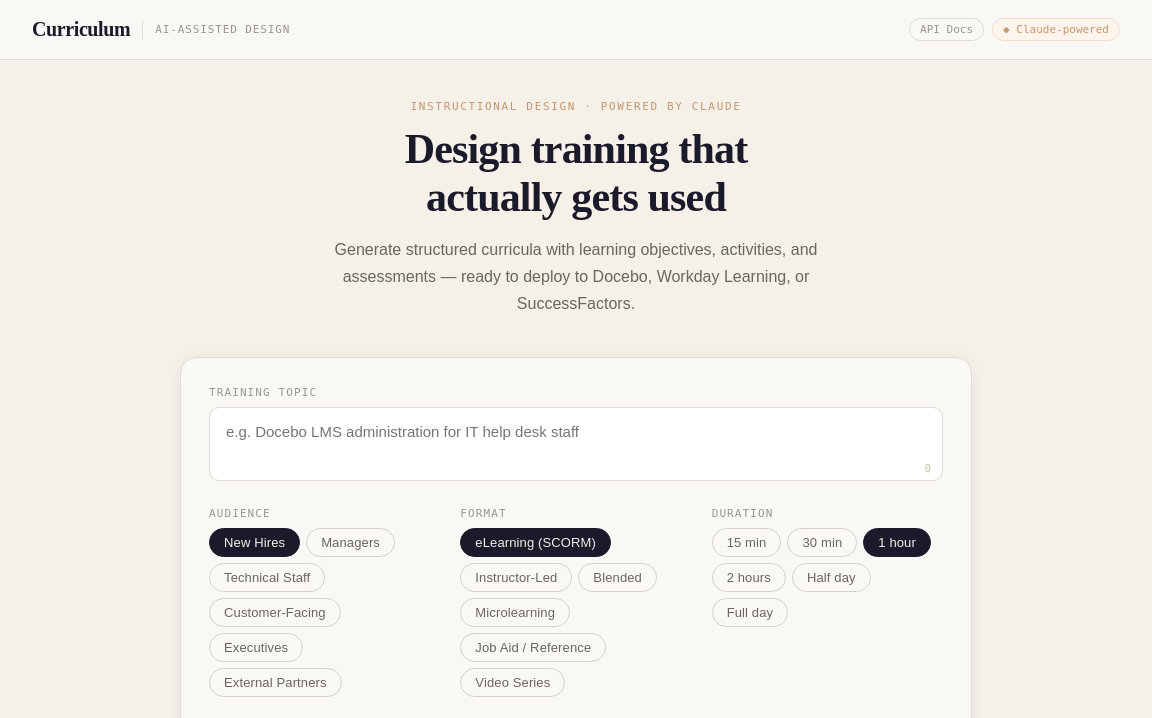
Test case: CurriculumBuilder › displays curriculum after successful generation
In the text box with placeholder "e.g. Docebo LMS administration for IT help desk staff": [576, 444] box 209,407 -> 943,481, type "Test topic"
(page scrolled)
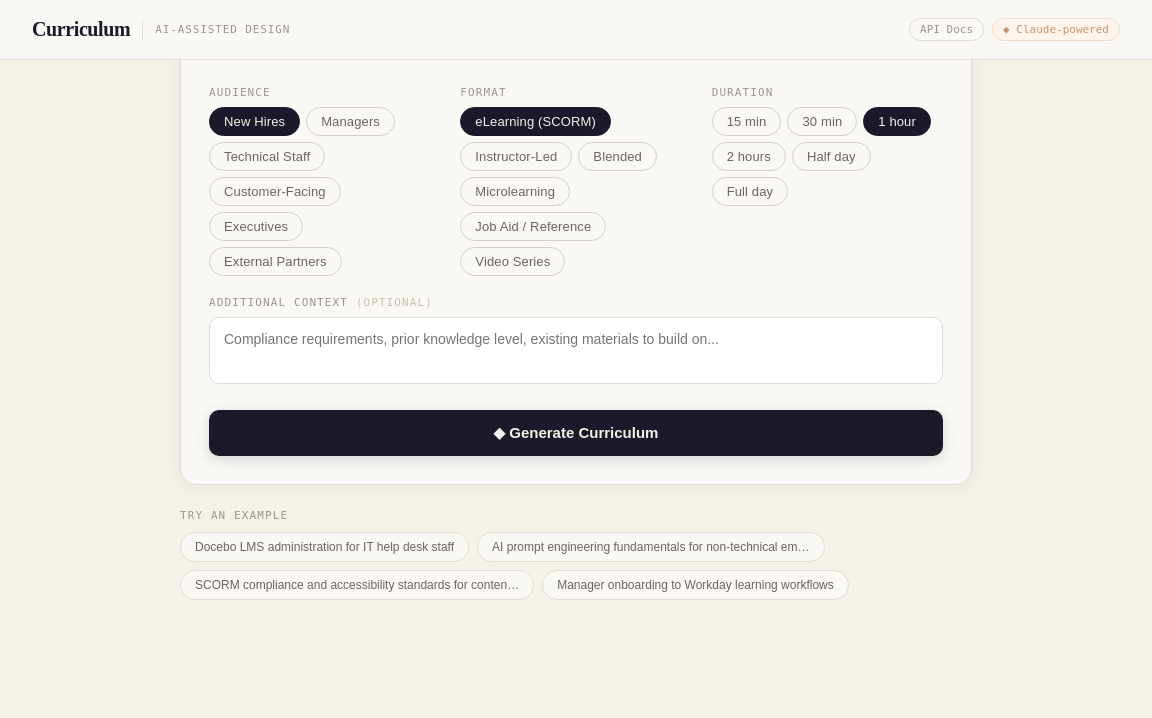
Click the button "◆ Generate Curriculum": [576, 433] box 209,410 -> 943,456
(page scrolled)
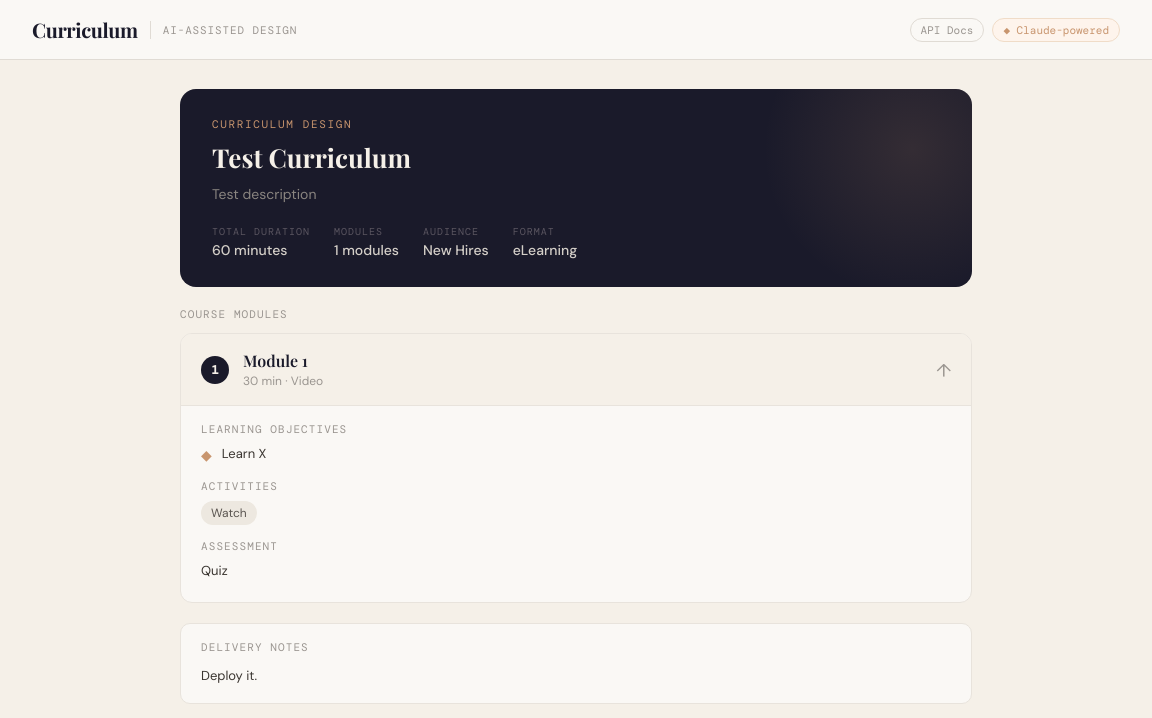
expect the text "Test Curriculum" is shown: met, box 212,140 -> 411,175
expect the text "Module 1" is shown: met, box 243,350 -> 308,371
